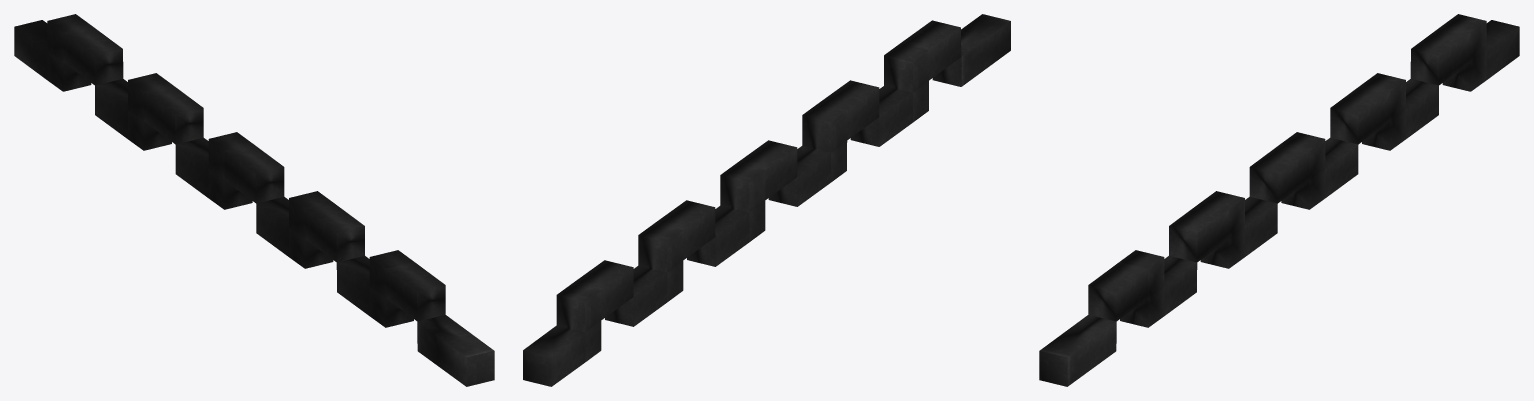
The model's file is RUBBER_BLOCK.fbx.
3 renders of one model, left to right at view 1: azimuth 30°, elevation 25°; view 2: azimuth 150°, elevation 25°; view 3: azimuth 330°, elevation 25°, orthographic.
Parts seen in each view (by area): view 1: Cube; view 2: Cube; view 3: Cube.
Part boxes in pixels (x1,y1,x2,y2): Cube: [14, 14, 494, 386]; Cube: [523, 14, 1010, 386]; Cube: [1039, 14, 1519, 386].
Size of the model in its own units: 200 by 398 by 5496.
1 material, 1 textured.
